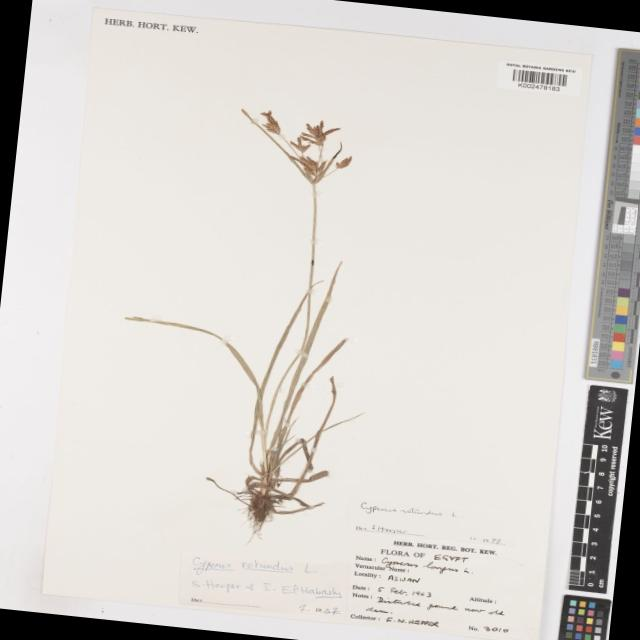cyperus: (234, 98, 376, 190)
